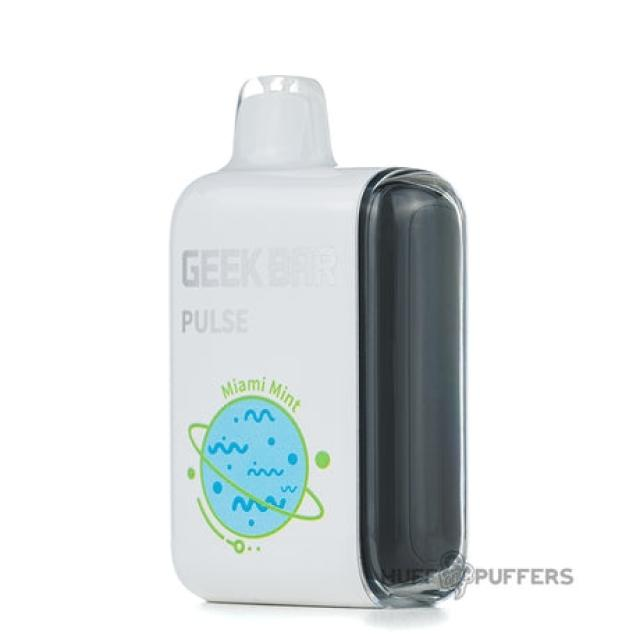Hazard: (167, 72, 469, 610)
